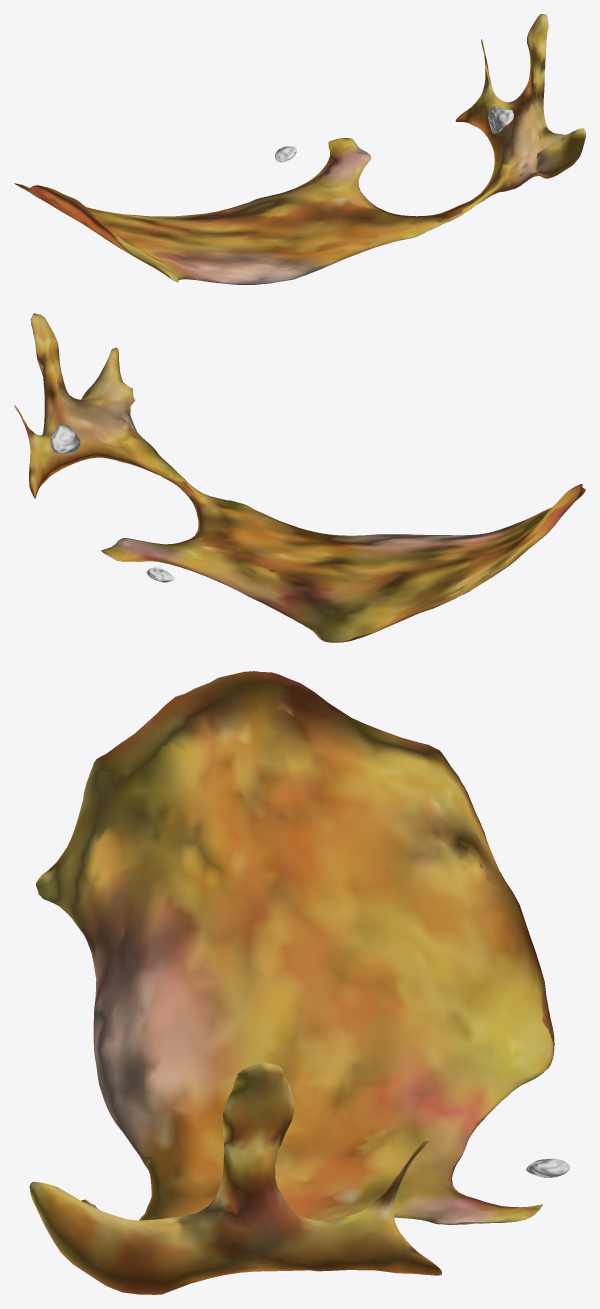
The model's file is astra-plaque.fbx.
3 renders of one model, top to bottom at view 1: azimuth 30°, elevation 25°; view 2: azimuth 150°, elevation 25°; view 3: azimuth 270°, elevation 25°, orthographic. The views are drawn at different scales.
Visible parts, largest first — view 1: Plaque; view 2: Plaque; view 3: Plaque.
Part boxes in pixels (x1,y1,x2,y2): Plaque: [14, 14, 585, 284]; Plaque: [14, 313, 585, 642]; Plaque: [29, 671, 570, 1294].
Size of the model in its own units: 274 by 88.4 by 127.
